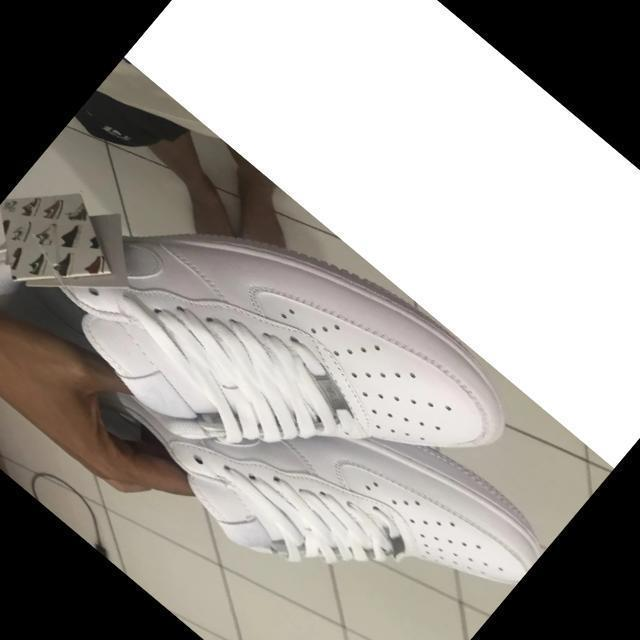nike original air force: (0, 70, 536, 628), (118, 292, 551, 640)
